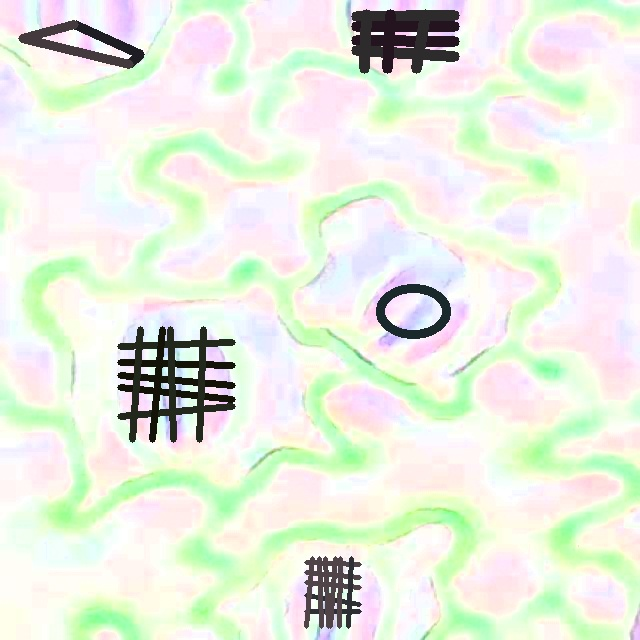open: (117, 326, 235, 442), (352, 10, 458, 73), (19, 20, 143, 68), (376, 283, 451, 340), (304, 556, 361, 628)
